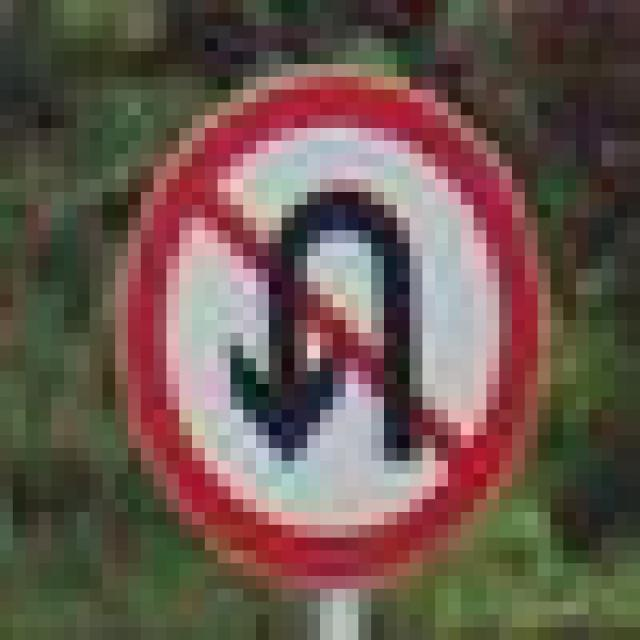u turn prohibited: (100, 67, 543, 595)
